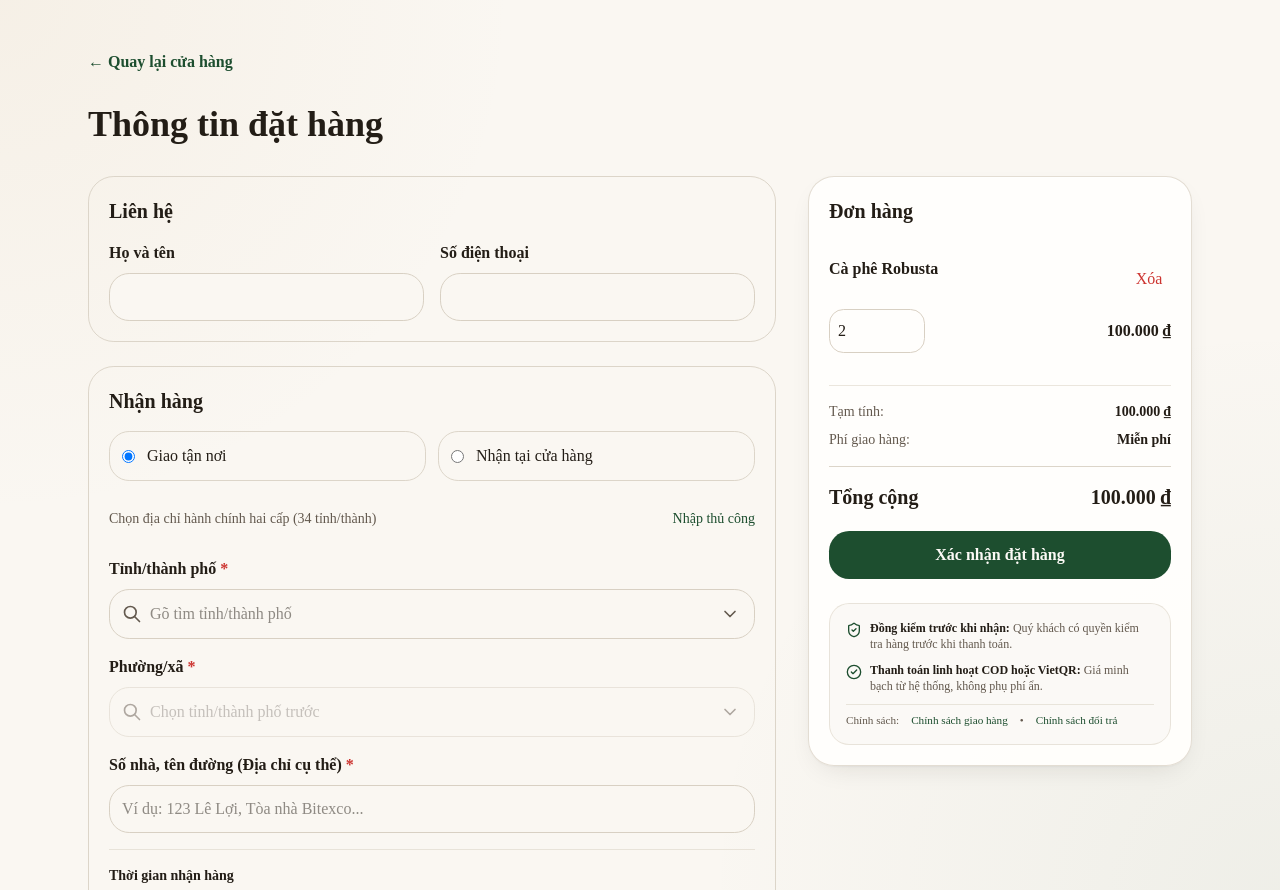
Test: CheckoutForm - Structured Address & Experience › chọn nhận tại cửa hàng hiển thị thông tin địa chỉ và giờ mở cửa của cửa hàng
Click the radio button labelled "Nhận tại cửa hàng": (458, 456) [451,450,464,462]
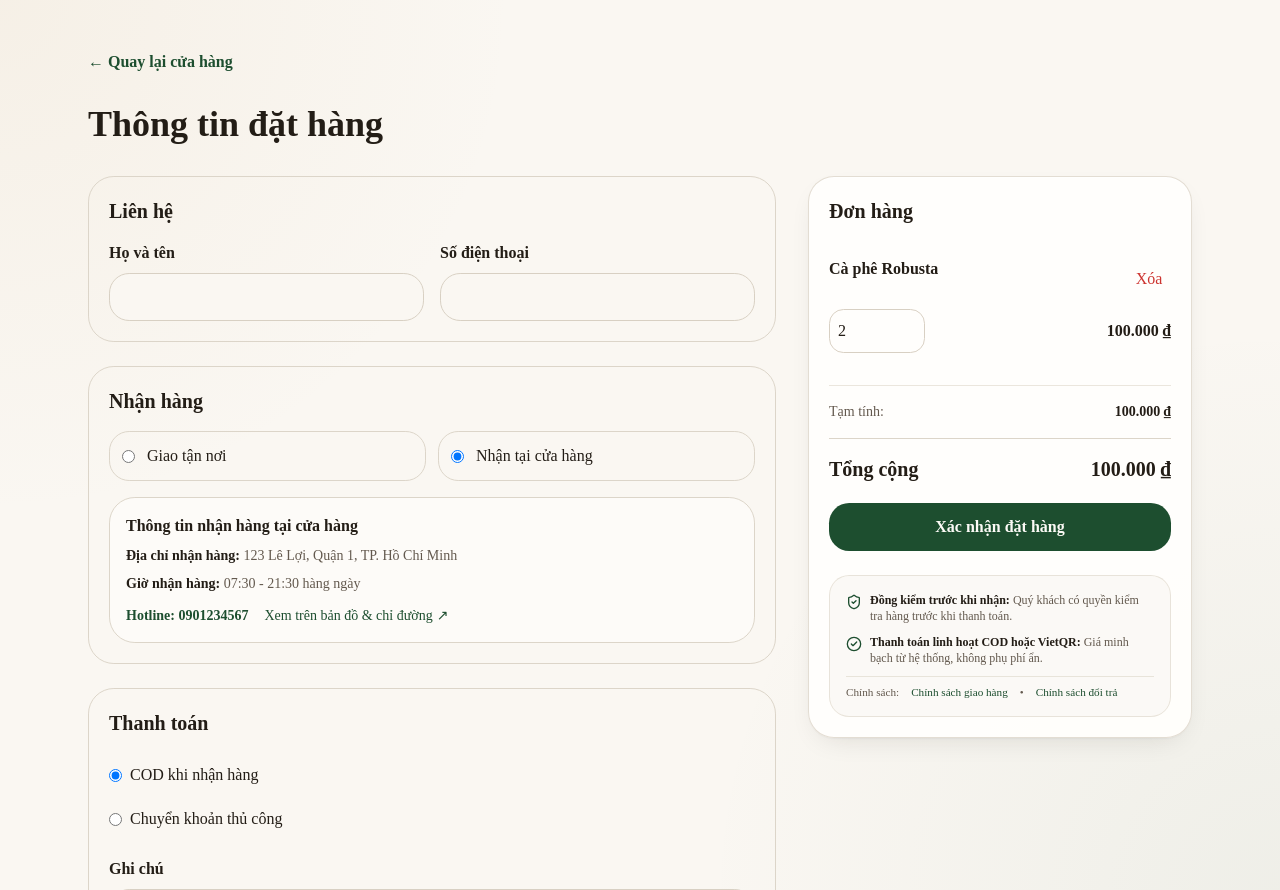
Now the element with test id "pickup-store-info" is shown, box [109,497,755,643]
Now the element with test id "pickup-store-info" shows "123 Lê Lợi, Quận 1", box [244,548,457,563]
Now the element with test id "pickup-store-info" shows "07:30 - 21:30", box [224,576,360,591]
